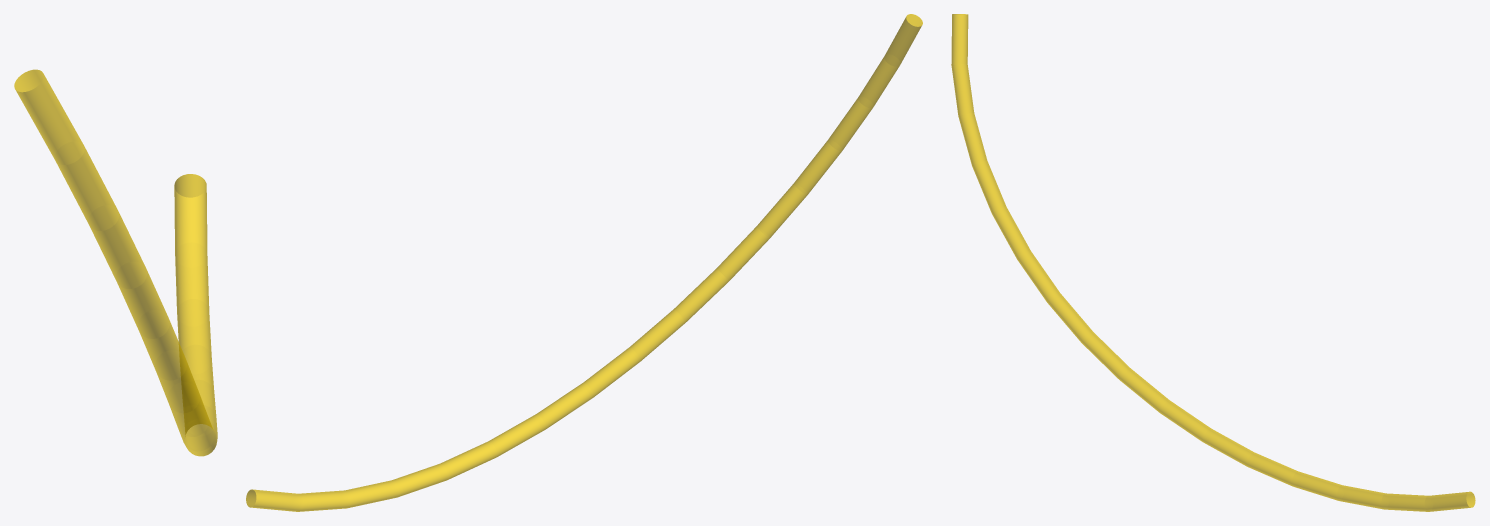
The model's file is Event_419990632_track_38.fbx.
3 views of the same model, side by side, from view 1: azimuth 30°, elevation 25°; view 2: azimuth 150°, elevation 25°; view 3: azimuth 270°, elevation 25° (orthographic). The views are drawn at different scales.
Parts seen in each view (by area): view 1: Model; view 2: Model; view 3: Model.
Part boxes in pixels (box(x1,y1,x2,y2)): Model: box(14, 69, 217, 456); Model: box(246, 14, 922, 511); Model: box(951, 14, 1475, 511).
Size of the model in its own units: 0.9908 by 0.9671 by 1.29.
